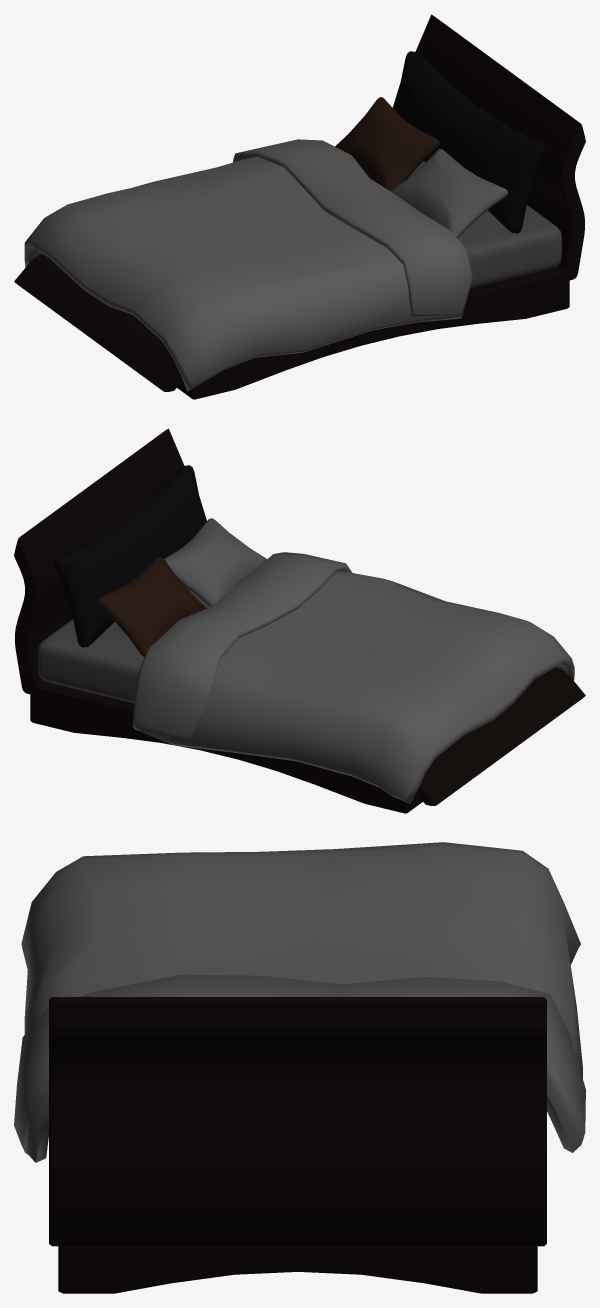
File: h-006_bed_01_F.FBX
3 views of the same model, one above another, from view 1: azimuth 30°, elevation 25°; view 2: azimuth 150°, elevation 25°; view 3: azimuth 270°, elevation 25° (orthographic). The views are drawn at different scales.
Visible parts, largest first — view 1: h-006_bed_01; view 2: h-006_bed_01; view 3: h-006_bed_01.
Boxes of the visible parts, x1,y1,x2,y2 form: h-006_bed_01: (14,14,585,399); h-006_bed_01: (14,428,585,813); h-006_bed_01: (14,842,585,1293).
Size of the model in its own units: 43.71 by 18.23 by 31.01.
